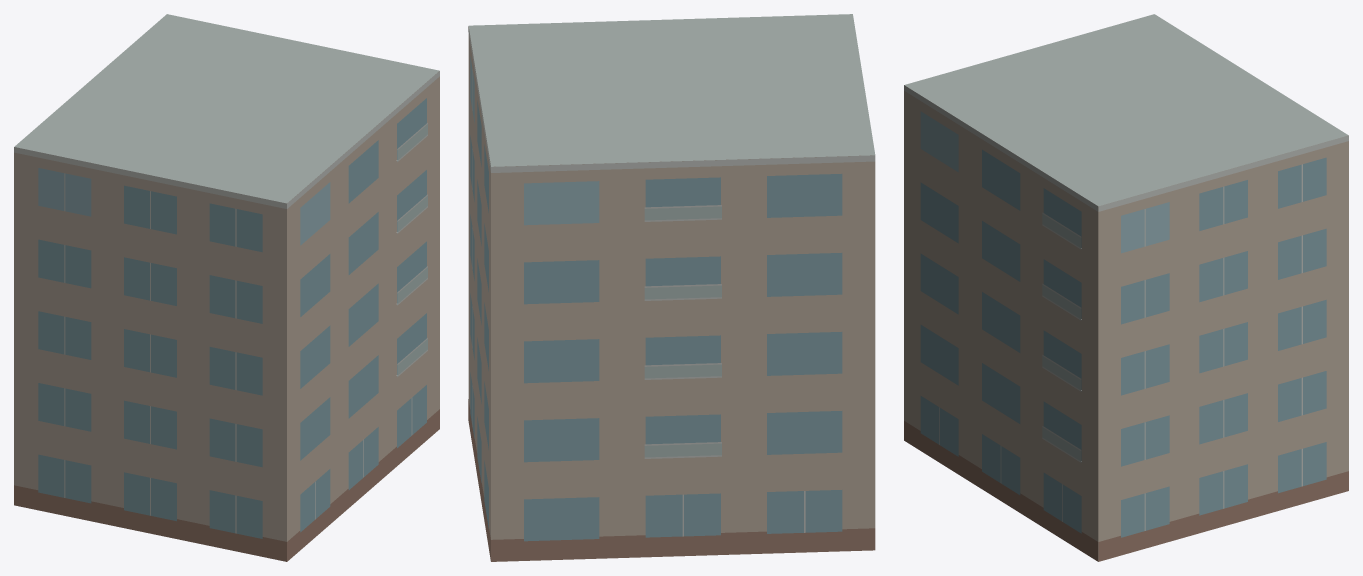
File: survey-upis-32750748.glb
3 renders of one model, left to right at view 1: azimuth 30°, elevation 25°; view 2: azimuth 150°, elevation 25°; view 3: azimuth 270°, elevation 25°, orthographic. The views are drawn at different scales.
Parts seen in each view (by area): view 1: survey-upis-32750748.tmp; view 2: survey-upis-32750748.tmp; view 3: survey-upis-32750748.tmp.
Boxes of the visible parts, bbox=[...] form: survey-upis-32750748.tmp: bbox=[14, 14, 439, 561]; survey-upis-32750748.tmp: bbox=[468, 14, 875, 561]; survey-upis-32750748.tmp: bbox=[904, 14, 1348, 561].
Size of the model in its own units: 17.94 by 15.45 by 17.52.
